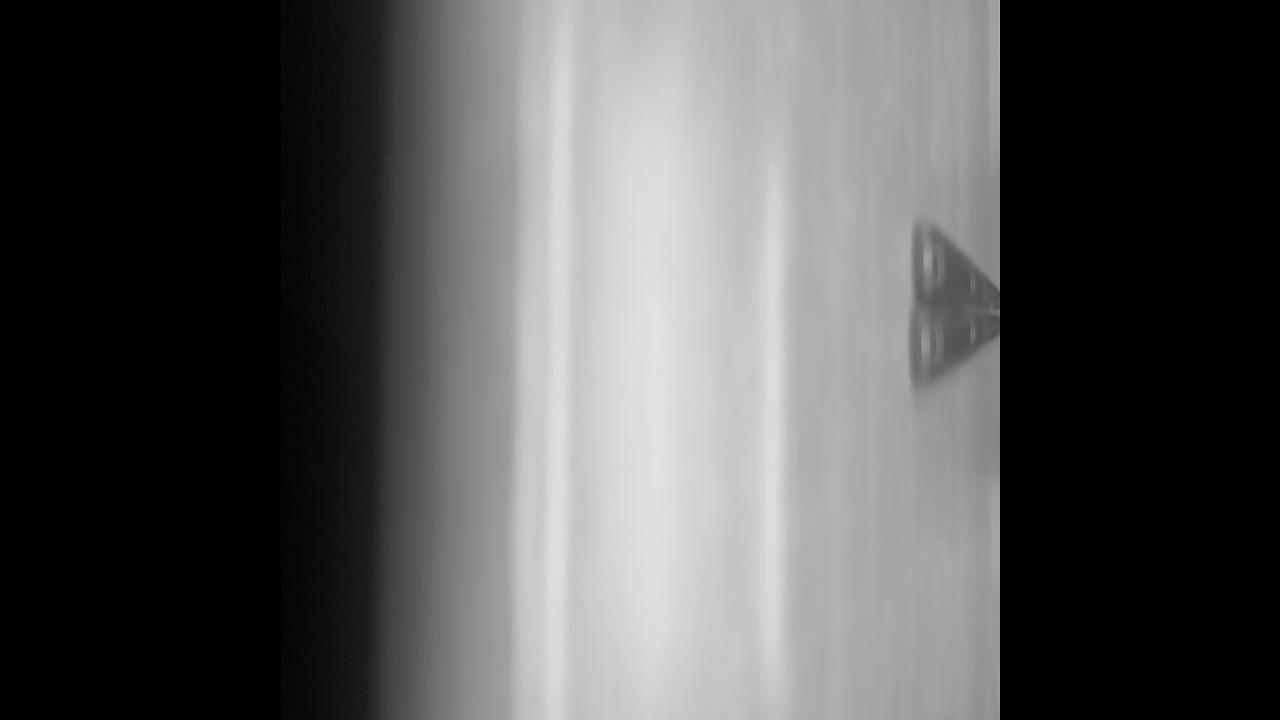chopstick: (911, 223, 1000, 393)
